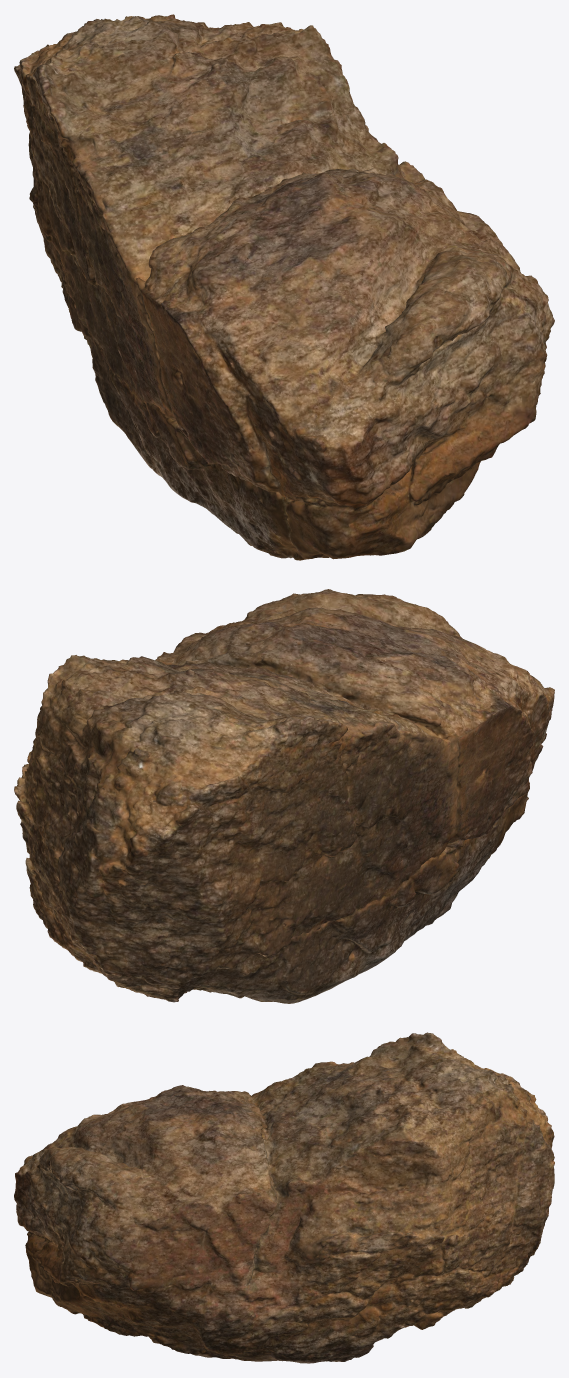
The model's file is namaqualand_boulder_06.gltf.
3 views of the same model, one above another, from view 1: azimuth 30°, elevation 25°; view 2: azimuth 150°, elevation 25°; view 3: azimuth 270°, elevation 25° (orthographic). The views are drawn at different scales.
Parts seen in each view (by area): view 1: namaqualand_boulder_06; view 2: namaqualand_boulder_06; view 3: namaqualand_boulder_06.
Boxes of the visible parts, x1=… form: namaqualand_boulder_06: x1=14, y1=14, x2=554, y2=560; namaqualand_boulder_06: x1=14, y1=589, x2=554, y2=1003; namaqualand_boulder_06: x1=14, y1=1032, x2=554, y2=1363.
Bounding box in the file's own units: 0.675 × 0.6516 × 1.21.
1 material, 1 textured.
